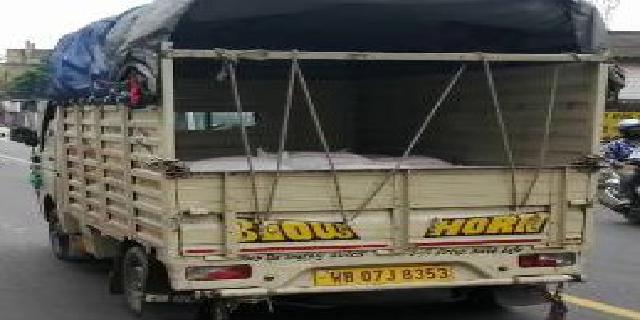Minitruck: (27, 7, 600, 316)
